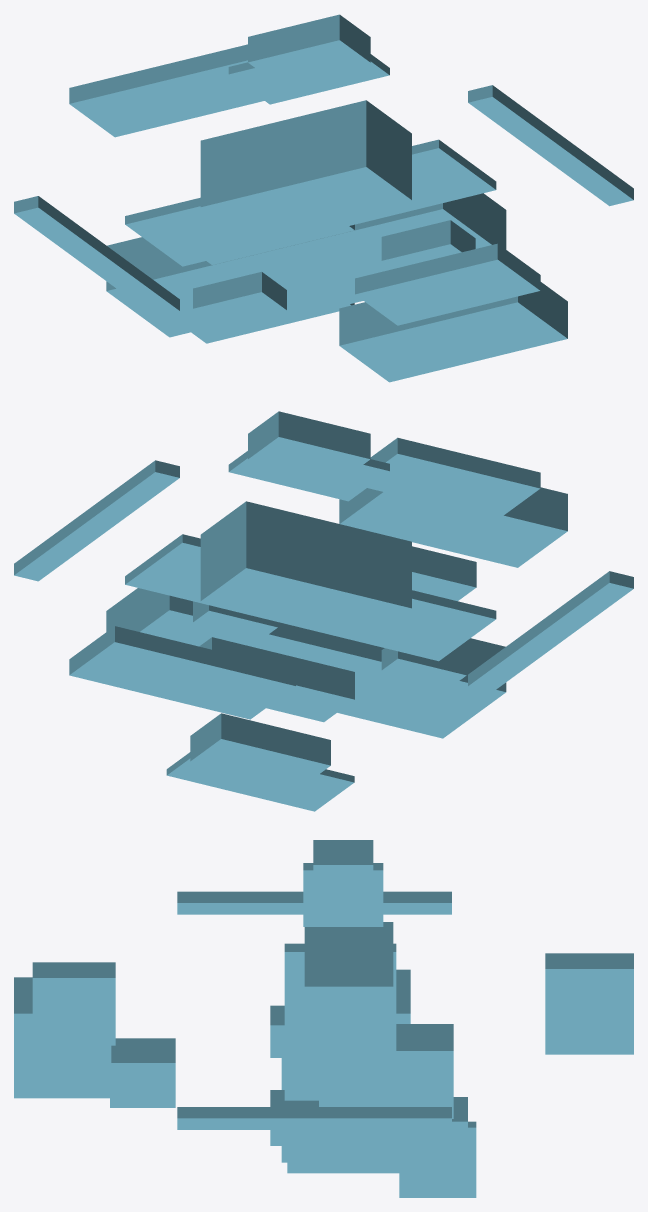
File: convertible-sportfish.glb
3 renders of one model, top to bottom at view 1: azimuth 30°, elevation 25°; view 2: azimuth 150°, elevation 25°; view 3: azimuth 270°, elevation 25°, orthographic. The views are drawn at different scales.
Visible parts, largest first — view 1: SportfishEnclosedHouse, SportfishHull, SportfishFlaredBow, SportfishMainDeck, SportfishCockpit, SportfishBowForedeck, SportfishFlybridgeHelm, SportfishPortSideDeck, SportfishStarboardSideDeck, SportfishGalley, SportfishBridgeLevel, SportfishGuestStateroom (+3 smaller); view 2: SportfishEnclosedHouse, SportfishHull, SportfishCockpit, SportfishFlaredBow, SportfishMainDeck, SportfishBowForedeck, SportfishEngineRoom, SportfishFlybridgeHelm, SportfishStarboardSideDeck, SportfishPortSideDeck, SportfishSalon, SportfishMachineryLevel (+4 smaller); view 3: SportfishEnclosedHouse, SportfishCockpit, SportfishMainDeck, SportfishBowForedeck, SportfishFlaredBow, SportfishStarboardSideDeck, SportfishHull, SportfishSalon, SportfishPortSideDeck, SportfishForwardStateroom, SportfishFlybridgeHelm, SportfishEngineRoom (+4 smaller).
Part boxes in pixels (bbox=[...]): SportfishEnclosedHouse: bbox=[200, 100, 411, 240]; SportfishHull: bbox=[106, 193, 506, 337]; SportfishFlaredBow: bbox=[339, 282, 567, 382]; SportfishMainDeck: bbox=[125, 139, 496, 266]; SportfishCockpit: bbox=[69, 44, 264, 137]; SportfishBowForedeck: bbox=[355, 243, 540, 325]; SportfishFlybridgeHelm: bbox=[248, 14, 370, 84]; SportfishPortSideDeck: bbox=[14, 196, 179, 316]; SportfishStarboardSideDeck: bbox=[468, 85, 633, 206]; SportfishGalley: bbox=[193, 271, 286, 326]; SportfishBridgeLevel: bbox=[228, 54, 389, 104]; SportfishGuestStateroom: bbox=[381, 220, 475, 268]; SportfishEnclosedHouse: bbox=[200, 501, 411, 641]; SportfishHull: bbox=[106, 588, 506, 738]; SportfishCockpit: bbox=[69, 626, 295, 719]; SportfishFlaredBow: bbox=[339, 487, 567, 567]; SportfishMainDeck: bbox=[125, 534, 496, 661]; SportfishBowForedeck: bbox=[367, 437, 540, 519]; SportfishEngineRoom: bbox=[190, 713, 330, 788]; SportfishFlybridgeHelm: bbox=[248, 411, 370, 481]; SportfishStarboardSideDeck: bbox=[14, 460, 179, 581]; SportfishPortSideDeck: bbox=[468, 571, 633, 692]; SportfishSalon: bbox=[199, 637, 354, 722]; SportfishMachineryLevel: bbox=[166, 752, 354, 811]; SportfishEnclosedHouse: bbox=[304, 922, 393, 1065]; SportfishCockpit: bbox=[545, 953, 633, 1054]; SportfishMainDeck: bbox=[284, 943, 396, 1100]; SportfishBowForedeck: bbox=[32, 962, 115, 1045]; SportfishFlaredBow: bbox=[14, 977, 111, 1098]; SportfishStarboardSideDeck: bbox=[177, 1107, 451, 1129]; SportfishHull: bbox=[287, 969, 410, 1173]; SportfishSalon: bbox=[393, 1024, 453, 1118]; SportfishPortSideDeck: bbox=[177, 891, 451, 914]; SportfishForwardStateroom: bbox=[110, 1038, 175, 1107]; SportfishFlybridgeHelm: bbox=[313, 840, 373, 908]; SportfishEngineRoom: bbox=[407, 1097, 467, 1173].
Size of the model in its own units: 9.38 by 5.8 by 10.82.
